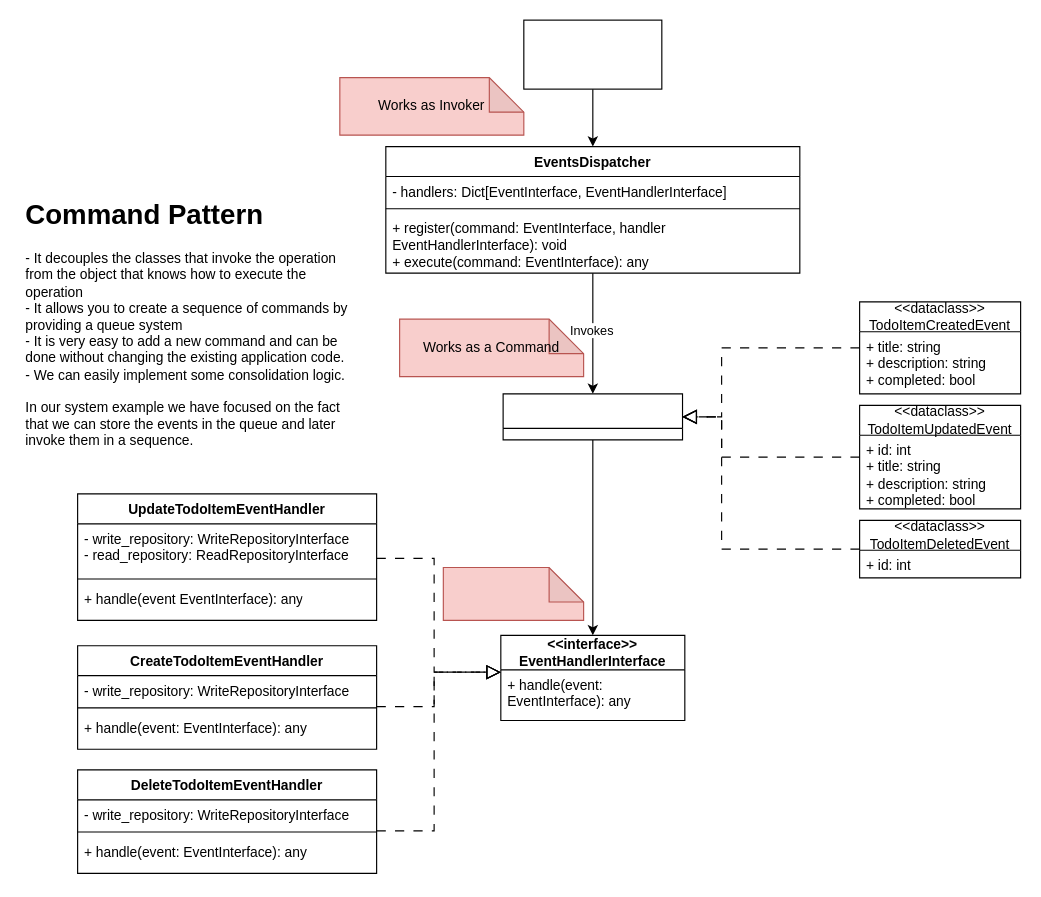
Some shapes in this 1041 by 897 pixel diagram are drawn without their labels. Each missing label, with the centre of its shape:
<<interface>> EventInterface: the point at 592,416
Some Logic: the point at 592,54
Works as a Receiver: the point at 513,593
